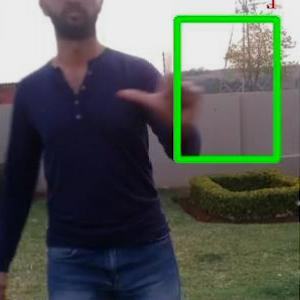land_hand: (116, 27, 208, 128)
